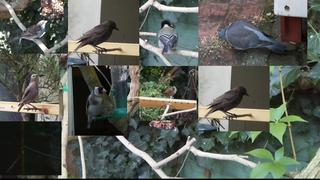dunnock: (159, 86, 177, 99)
goldfinch: (86, 86, 107, 129)
great tit: (157, 20, 178, 55)
sparrow: (9, 20, 48, 43)
starling: (204, 86, 250, 120), (74, 20, 119, 54), (18, 74, 39, 112)
wood pigeon: (218, 20, 287, 55)
